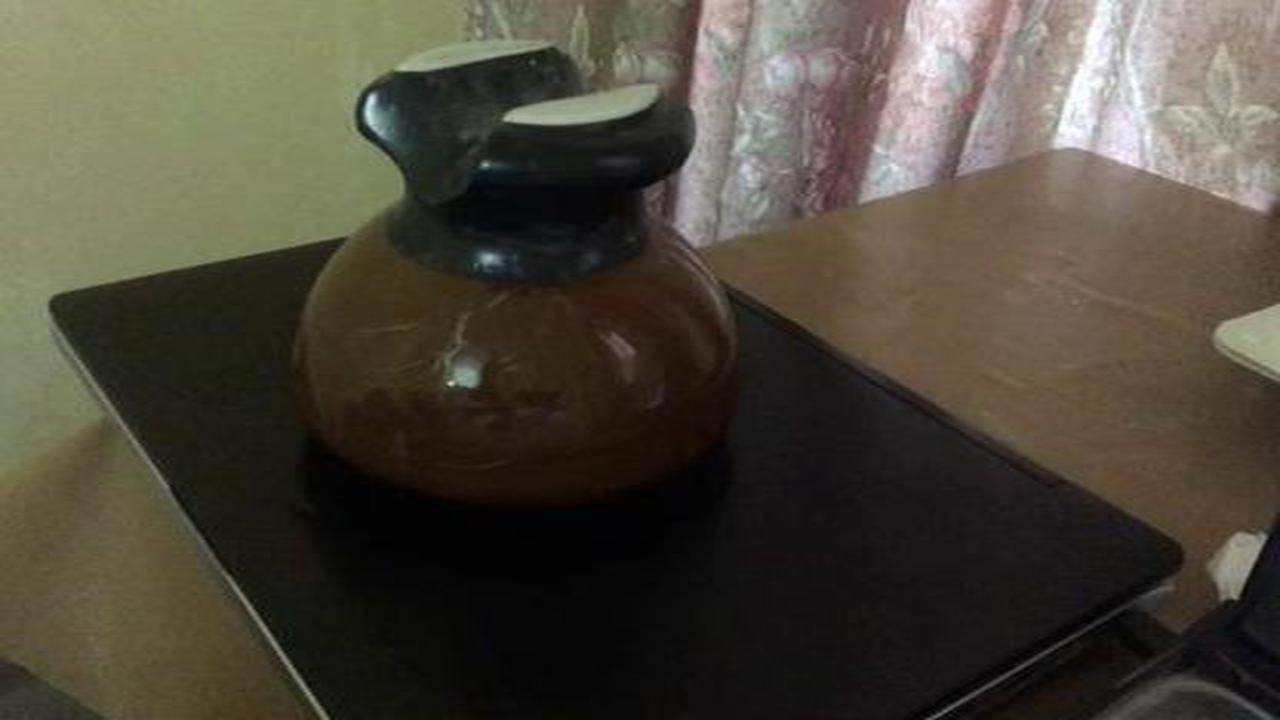insulator_pin: (284, 35, 754, 530)
